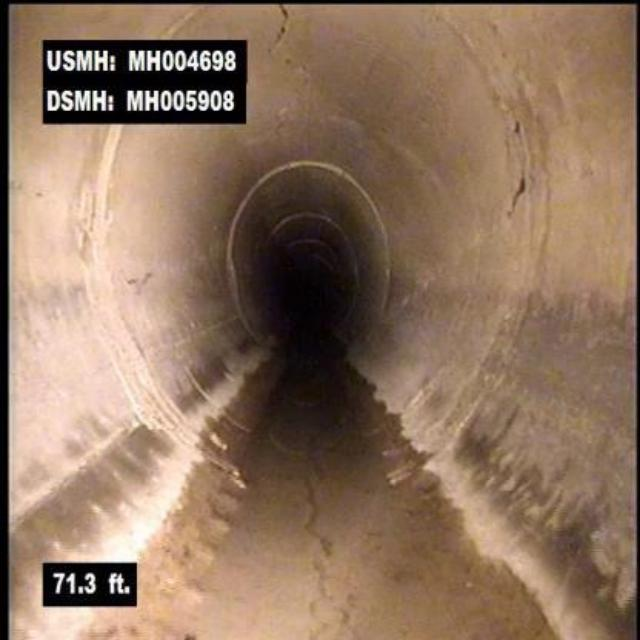Crack: (297, 500, 342, 638), (503, 166, 535, 220), (268, 8, 295, 52)
